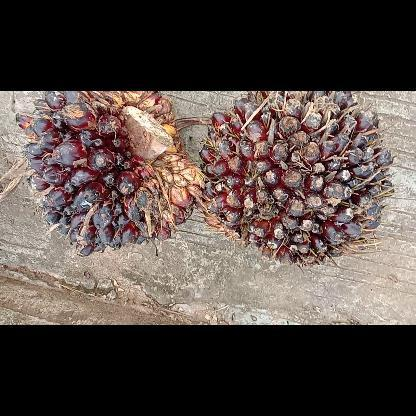TBS mentah: (194, 91, 396, 268), (13, 90, 206, 260)
